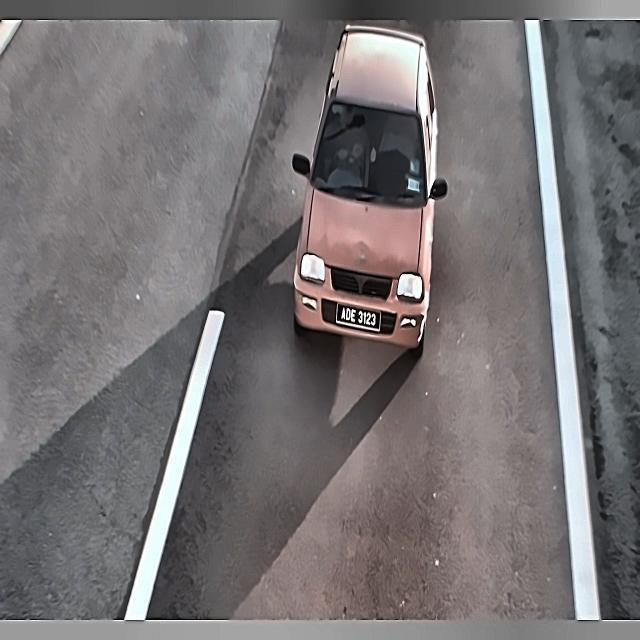car: (324, 299, 388, 333)
